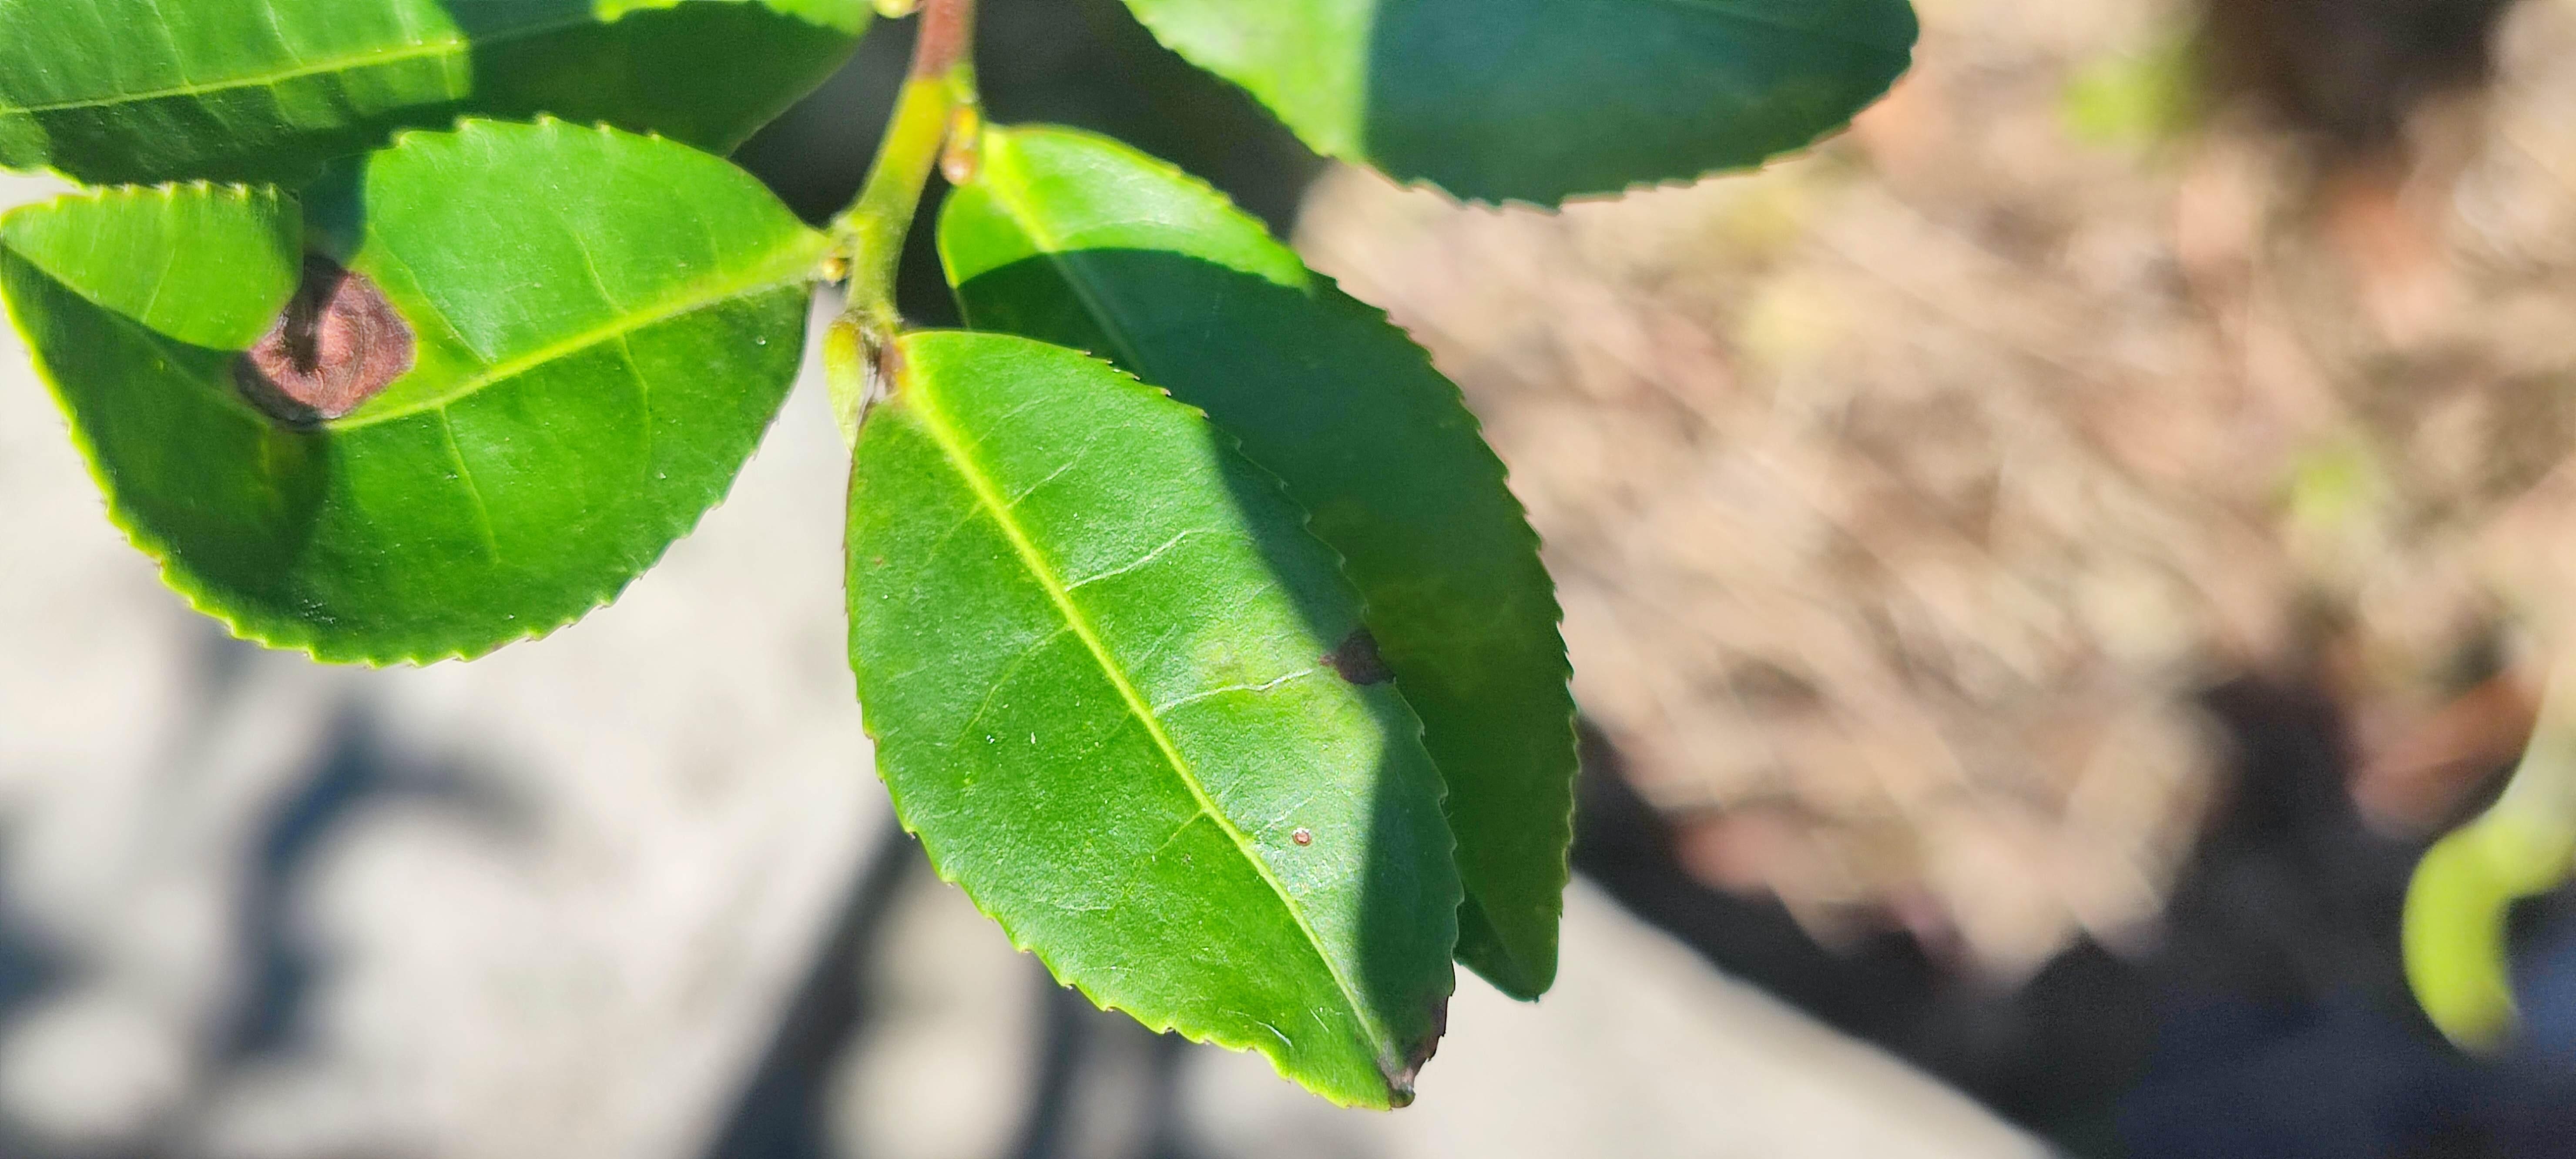tanju_high: (7, 110, 828, 670)
tanju_low: (844, 320, 1469, 1113)
